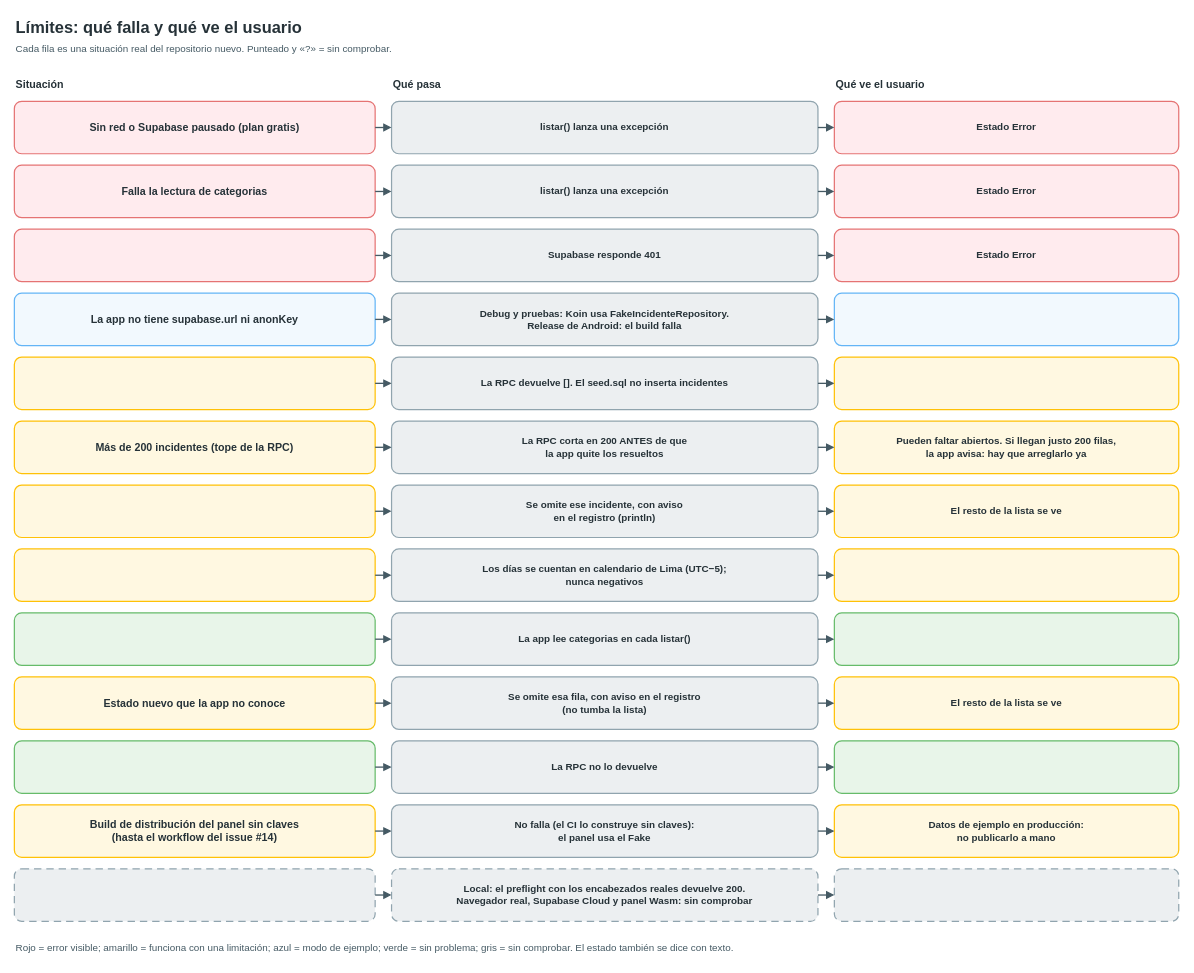
This 1194x973 diagram has some shape labels left out. The shapes that lost their labels are listed below. From the top down, each one's box as (x1, y1, x2, y2) in pixels, then its label:
(13, 228, 375, 282): Clave anon incorrecta
(833, 292, 1179, 346): Debug: datos de ejemplo (el CI no se rompe). Release: no se publica
(13, 356, 375, 410): Base de datos sin incidentes
(833, 356, 1179, 410): Estado Vacio hasta cargar un demo.sql
(13, 484, 375, 538): categoria_id que la app no conoce
(13, 548, 375, 602): Reloj del celular atrasado o adelantado
(833, 548, 1179, 602): La prioridad puede diferir algo de la del servidor
(13, 612, 375, 666): Cambian pesos o plazos en categorias
(833, 612, 1179, 666): Ve el cambio al refrescar
(13, 740, 375, 794): Incidente rechazado
(833, 740, 1179, 794): No aparece
(13, 868, 375, 922): ? Panel web desde otro origen (CORS)
(833, 868, 1179, 922): Si falla, el panel muestra Error
